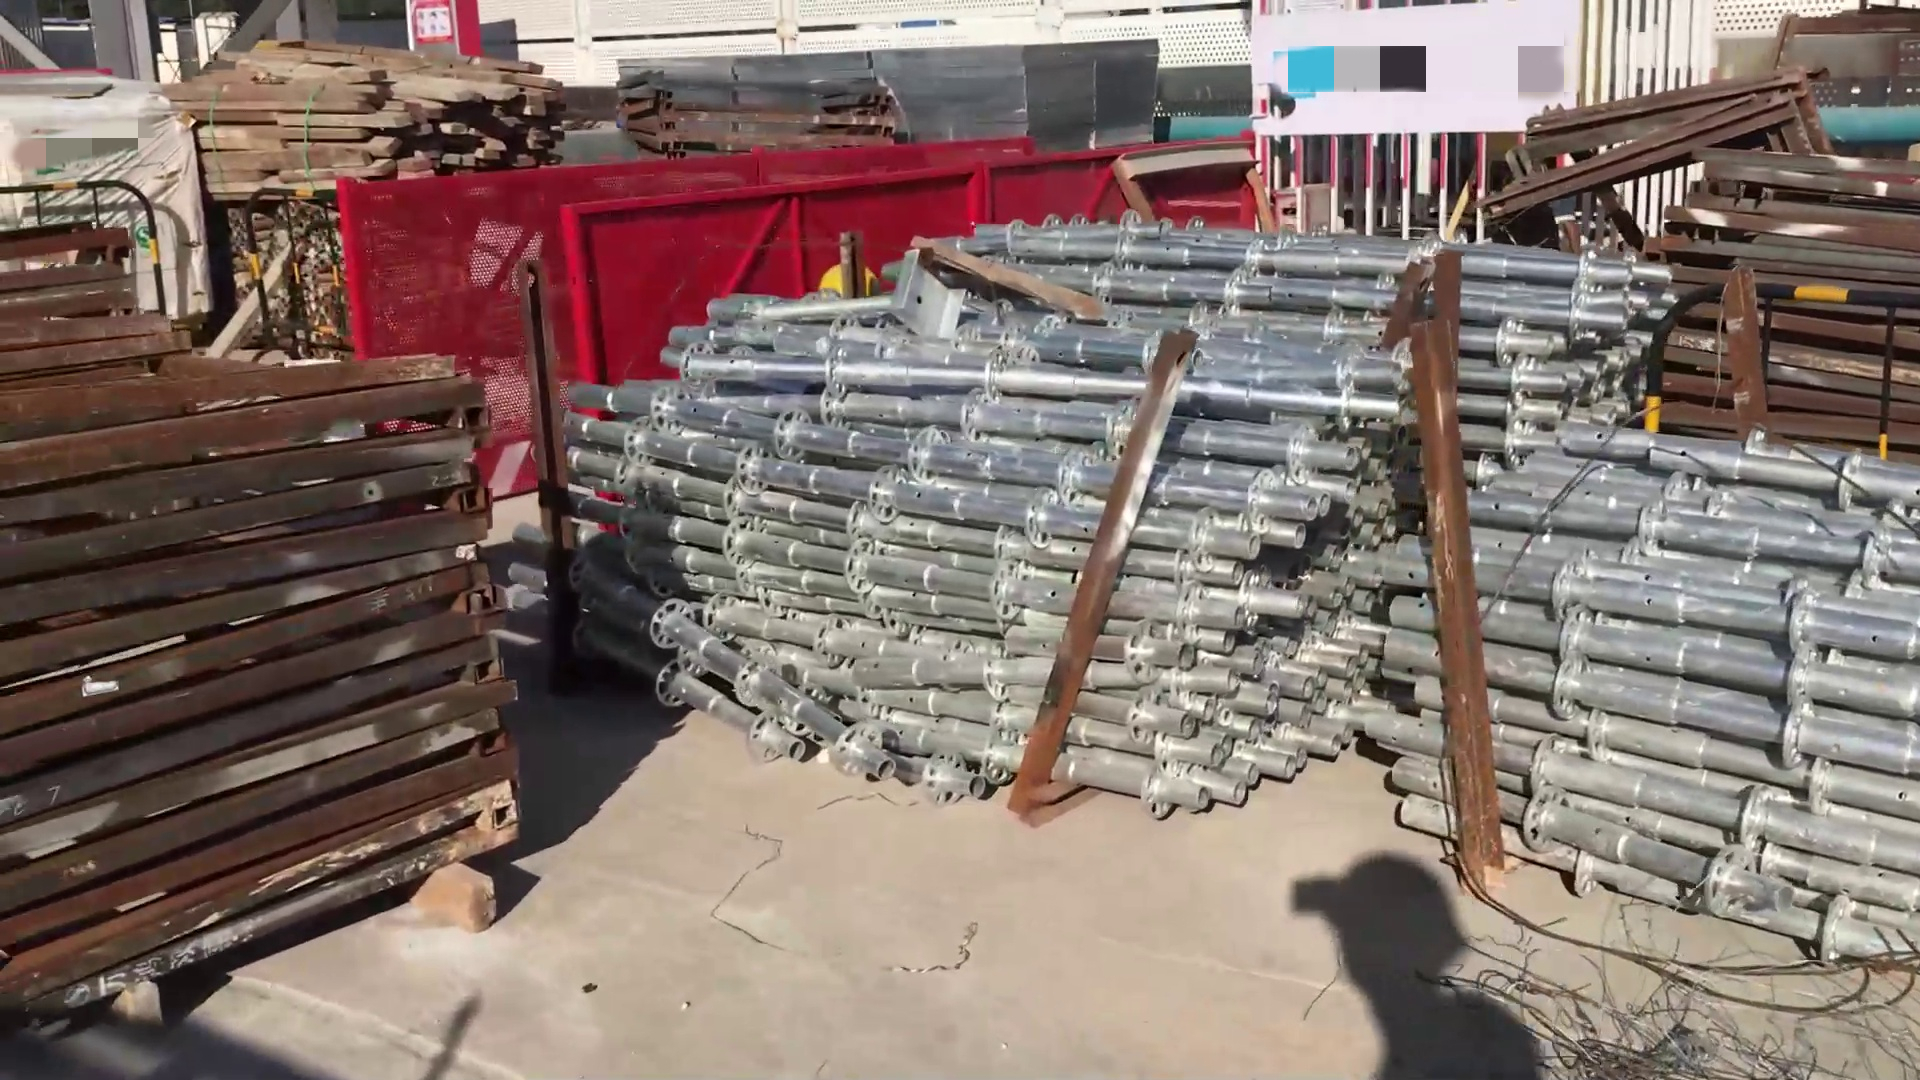fence: (1642, 270, 1920, 444)
rebar: (3, 223, 545, 1000), (1655, 142, 1920, 415)
scaffold: (644, 215, 1408, 820), (1458, 436, 1920, 955), (1083, 218, 1654, 454)
wood: (175, 33, 563, 175)
